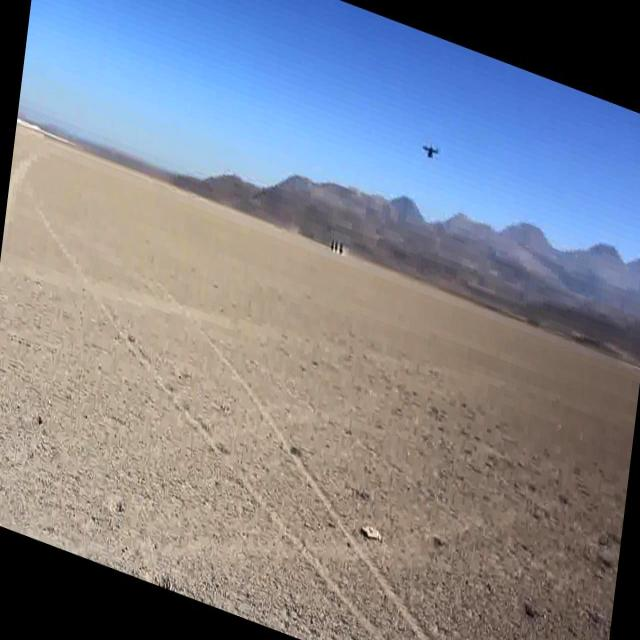drone: (420, 139, 442, 168)
